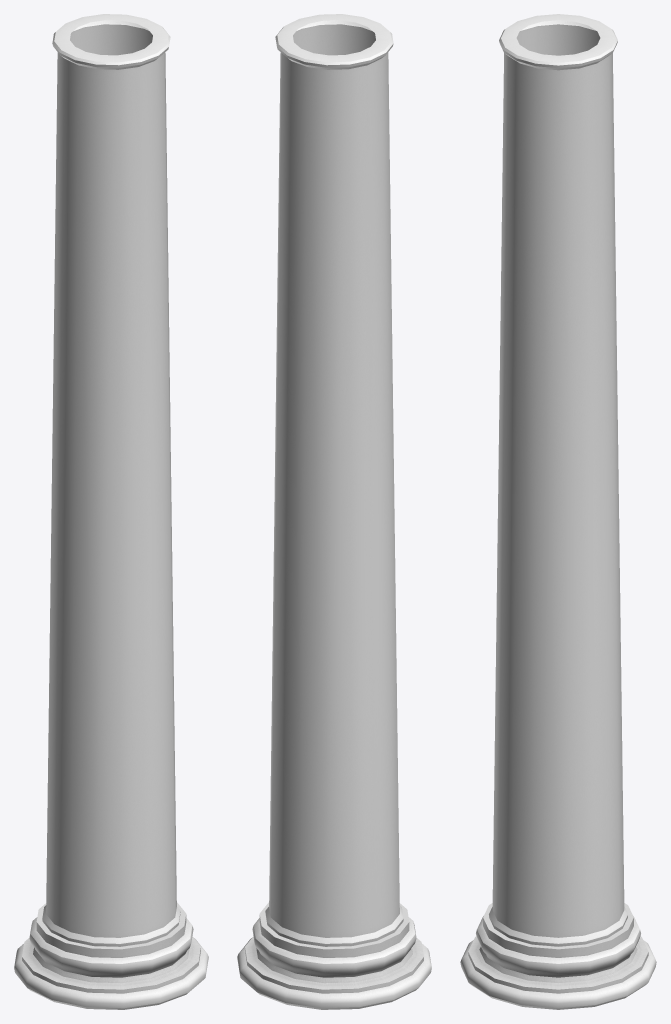
The model's file is shaft.glb.
3 renders of one model, left to right at view 1: azimuth 30°, elevation 25°; view 2: azimuth 150°, elevation 25°; view 3: azimuth 270°, elevation 25°, orthographic.
Parts seen in each view (by area): view 1: Curve; view 2: Curve; view 3: Curve.
Part boxes in pixels (x1,y1,x2,y2): Curve: (14,14,208,1009); Curve: (237,14,431,1009); Curve: (460,14,656,1009).
Bounding box in the file's own units: 0.6921 × 3.63 × 0.6921.
1 material, 1 textured.
